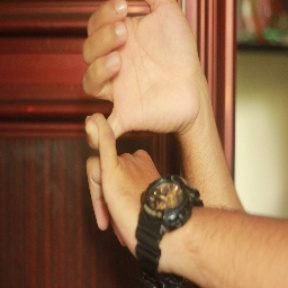S: (72, 1, 203, 233)
